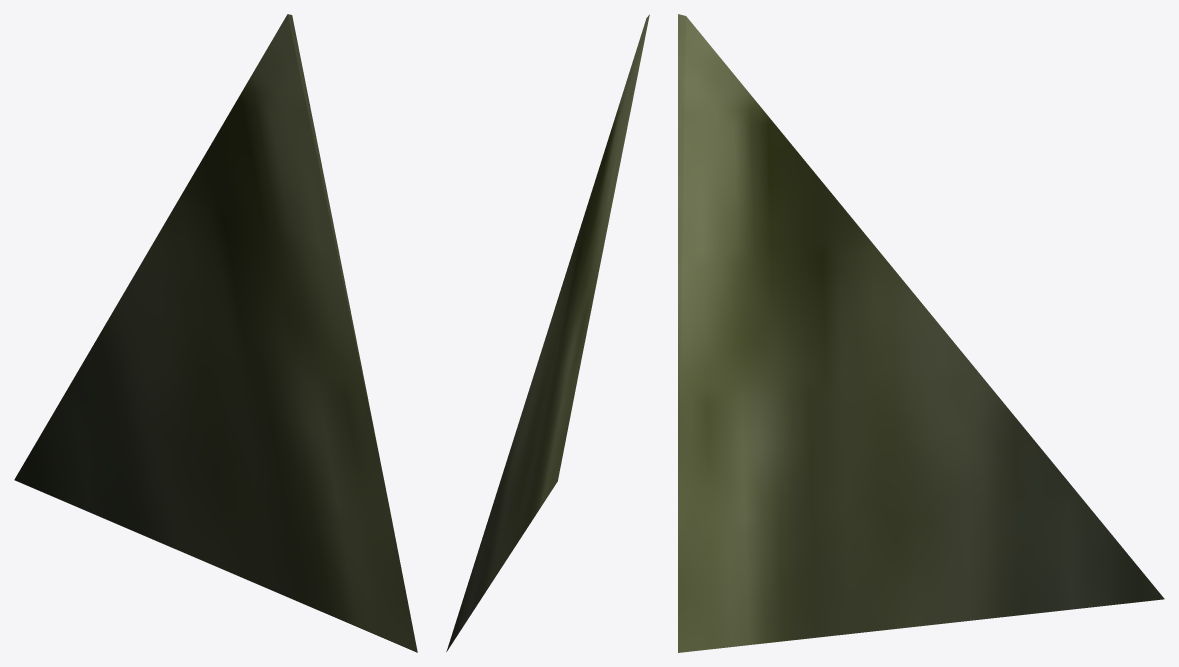
3 views of the same model, side by side, from view 1: azimuth 30°, elevation 25°; view 2: azimuth 150°, elevation 25°; view 3: azimuth 270°, elevation 25° (orthographic). The views are drawn at different scales.
Size of the model in its own units: 0.0828 by 0.421 by 0.3174.
Materials: 1 (1 with a texture image).
